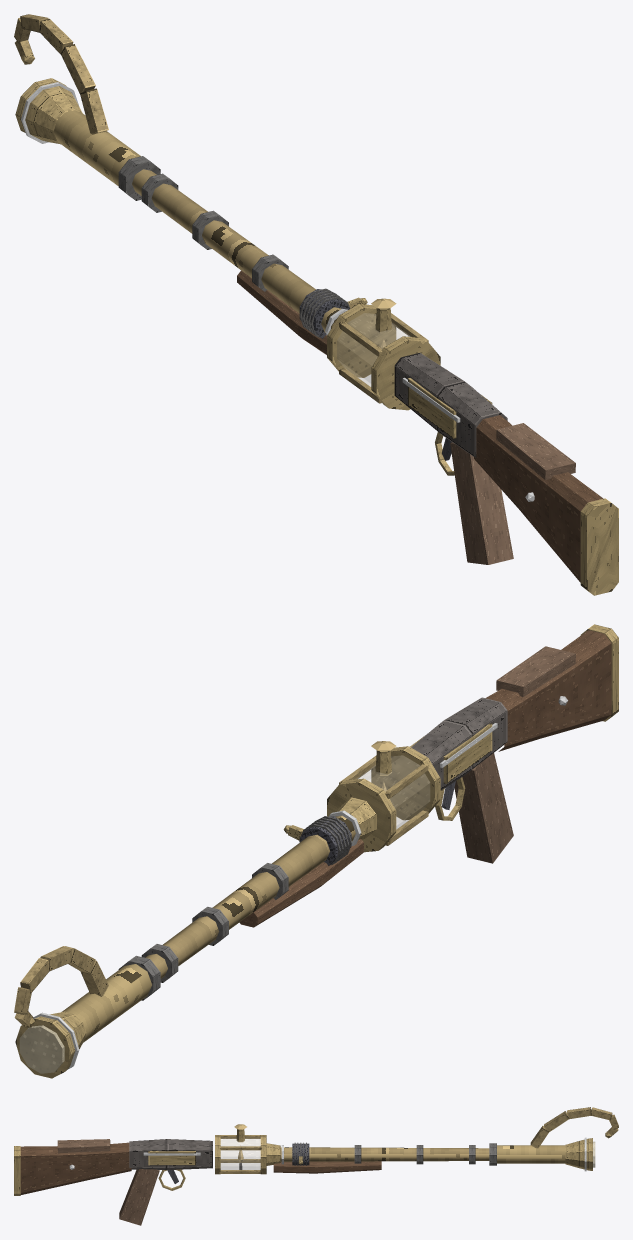
Rendered from weapon_lamplighter.gltf.
3 renders of one model, top to bottom at view 1: azimuth 30°, elevation 25°; view 2: azimuth 150°, elevation 25°; view 3: azimuth 270°, elevation 25°, orthographic. The views are drawn at different scales.
Visible parts, largest first — view 1: body, stock, sleeve, glass, ring; view 2: body, stock, sleeve, glass, lens, ring, glow; view 3: body, stock, sleeve, glass, ring, glow.
Boxes of the visible parts, left/top/right/bottom form: body: left=132, top=169, right=618, bottom=595; stock: left=237, top=270, right=603, bottom=582; sleeve: left=14, top=14, right=160, bottom=200; glass: left=337, top=313, right=410, bottom=386; ring: left=299, top=288, right=367, bottom=338; body: left=141, top=624, right=618, bottom=982; stock: left=239, top=630, right=611, bottom=927; sleeve: left=14, top=946, right=160, bottom=1078; glass: left=357, top=755, right=429, bottom=828; lens: left=19, top=1025, right=64, bottom=1073; ring: left=283, top=816, right=351, bottom=865; glow: left=329, top=696, right=568, bottom=845; body: left=14, top=1124, right=489, bottom=1195; stock: left=20, top=1139, right=381, bottom=1225; sleeve: left=489, top=1107, right=618, bottom=1170; glass: left=221, top=1138, right=260, bottom=1169; ring: left=292, top=1142, right=309, bottom=1165; glow: left=69, top=1145, right=283, bottom=1169.
Size of the model in its own units: 0.0911 by 0.2648 by 1.27.
9 materials, 9 textured.
